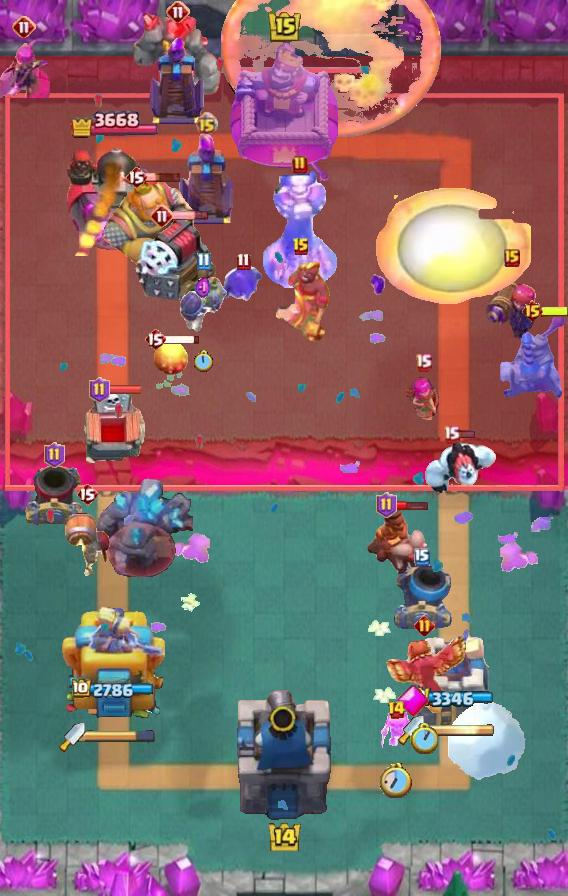bar: (60, 607, 168, 731), (414, 623, 492, 731)
cannon: (404, 372, 442, 420)
cannoneer-tower: (93, 477, 193, 577), (131, 2, 225, 98)
electro-dragon: (261, 167, 339, 295)
electro-spirit: (195, 276, 211, 300)
elite-barbarian: (365, 503, 431, 579)
elixir: (380, 763, 412, 798), (410, 723, 438, 754), (193, 350, 213, 374)
elixir-golem-mid: (78, 386, 148, 472)
emote: (145, 171, 182, 183), (171, 210, 209, 221), (164, 334, 201, 345), (107, 385, 143, 396), (394, 500, 430, 511), (540, 305, 567, 318), (457, 429, 476, 439)
evolution-symbol: (0, 36, 50, 98)
freeze: (271, 260, 331, 346)
giant-skeleton: (95, 176, 203, 280)
goblin: (378, 709, 414, 749)
goblin-ball: (176, 271, 230, 333)
golden-knight: (381, 631, 467, 713)
golem: (132, 214, 218, 304)
hog: (154, 338, 188, 376)
ice-spirit-evolution-symbol: (147, 34, 207, 126), (176, 134, 236, 226)
king-tower: (230, 43, 338, 181), (232, 686, 336, 826)
king-tower-bar: (424, 723, 494, 737), (85, 730, 155, 744)
knight: (62, 511, 112, 579)
mega-minion: (484, 266, 540, 342)
musketeer: (23, 461, 85, 529), (392, 565, 452, 629)
phoenix-egg: (221, 0, 441, 136)
rage: (423, 438, 499, 494)
ram-rider: (488, 311, 568, 401)
selected: (70, 108, 158, 142), (410, 687, 496, 709), (72, 679, 156, 700)
skeleton-king-skill: (397, 684, 429, 718)
spear-goblin: (222, 264, 264, 304)
text: (166, 0, 190, 24), (12, 15, 36, 39), (150, 204, 174, 228), (194, 112, 217, 136), (521, 299, 544, 323), (89, 377, 110, 403), (43, 442, 64, 468), (375, 492, 396, 518), (125, 165, 147, 189), (144, 327, 166, 351), (76, 482, 98, 506), (414, 616, 435, 637), (386, 700, 406, 720), (292, 237, 310, 257), (415, 353, 433, 371), (292, 155, 308, 175), (444, 425, 461, 443), (504, 249, 520, 267), (414, 548, 430, 566), (236, 253, 251, 272), (197, 253, 211, 272)
tower-bar: (63, 138, 164, 256)
valkyrie: (375, 185, 531, 307)
wall-breaker: (446, 699, 528, 781)
